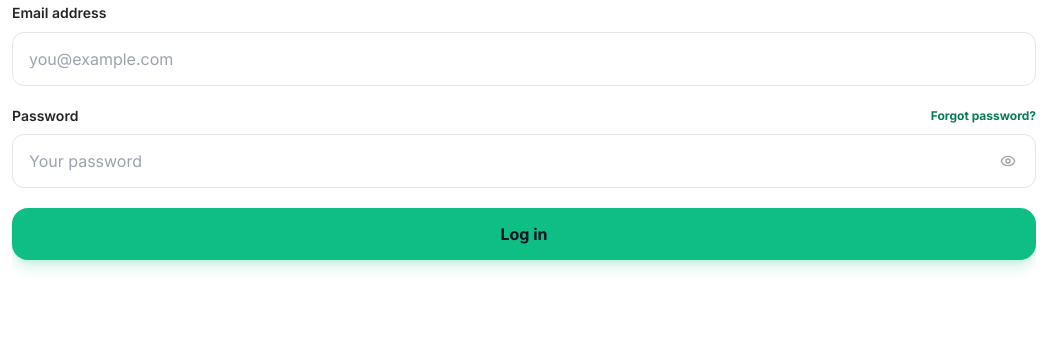
LoginForm › shows a clear error and lets the user retry on invalid credentials
The image size is (1048, 354).
Type "trader@example.com" into the field labelled "Email address" at {"x": 524, "y": 59}, box [12,32,1036,86]
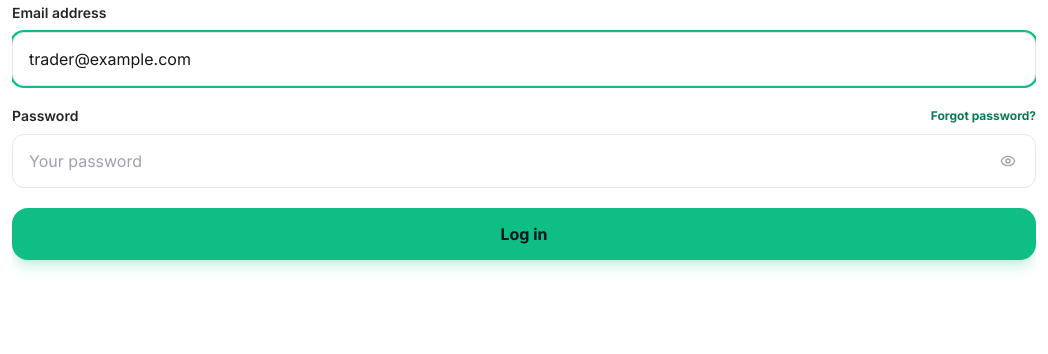
Type "wrong-password" into the password field labelled "Password" at {"x": 524, "y": 161}, box [12,134,1036,188]
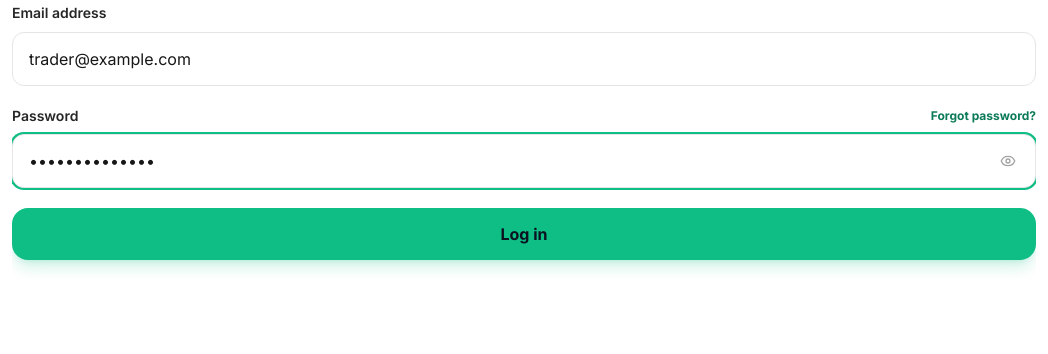
Click the button "Log in" at {"x": 524, "y": 234}, box [12,208,1036,260]
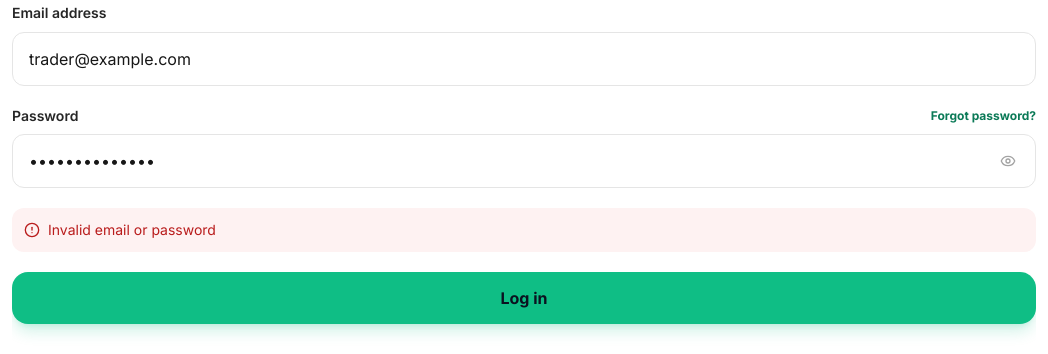
Expected: the button "Log in" is enabled, [12,272,1036,324]
Expected: the message reads "Invalid email or password", [48,221,216,238]
